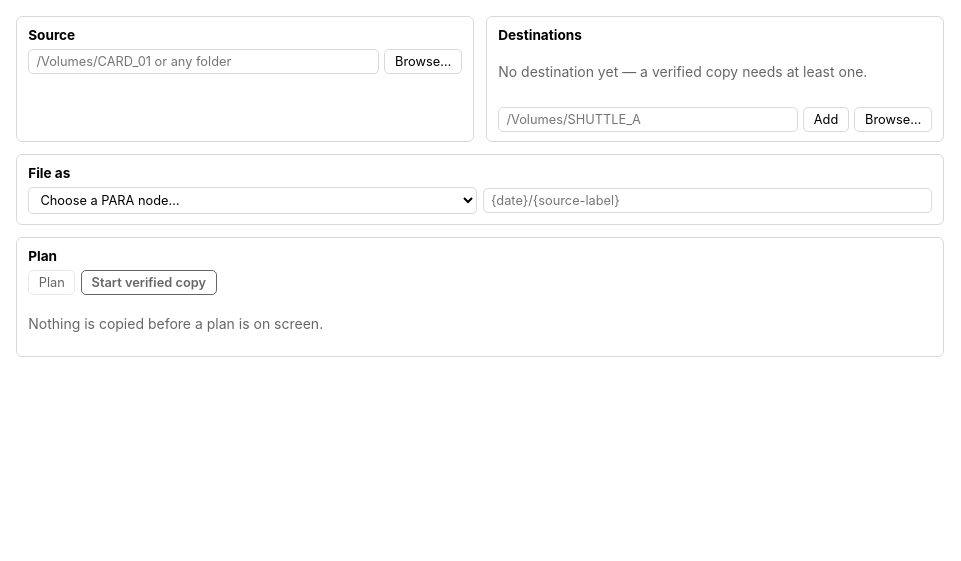
Test: a state read that fails while the run is finishing keeps the run's id on screen
Click the button with aria-label "Browse for source": [423, 62] box [384,49,462,74]
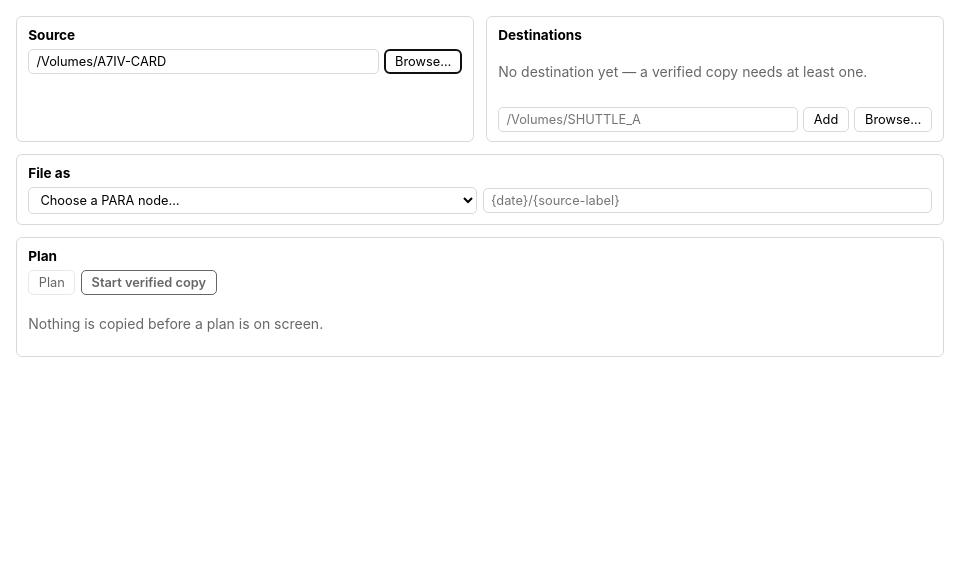
Result: the field named "Source path" holds "/Volumes/A7IV-CARD" at [28,49,379,74]
Click the button with aria-label "Browse for destination": [893, 119] box [854,107,932,132]
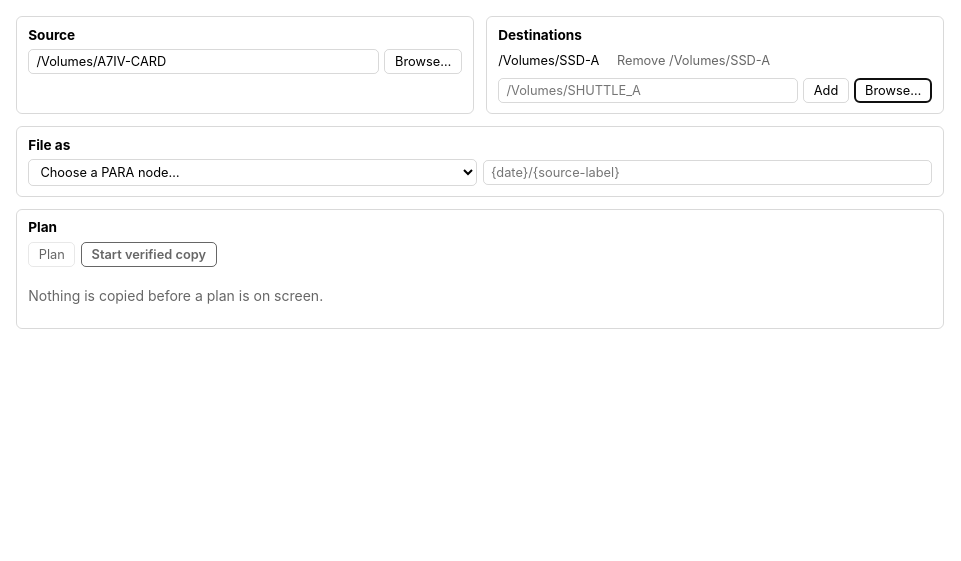
Result: the text "/Volumes/SSD-A" is shown at [498,53,599,68]
Select "project/client-x" in the dropdown named "PARA node": [253, 172] box [28,159,477,186]
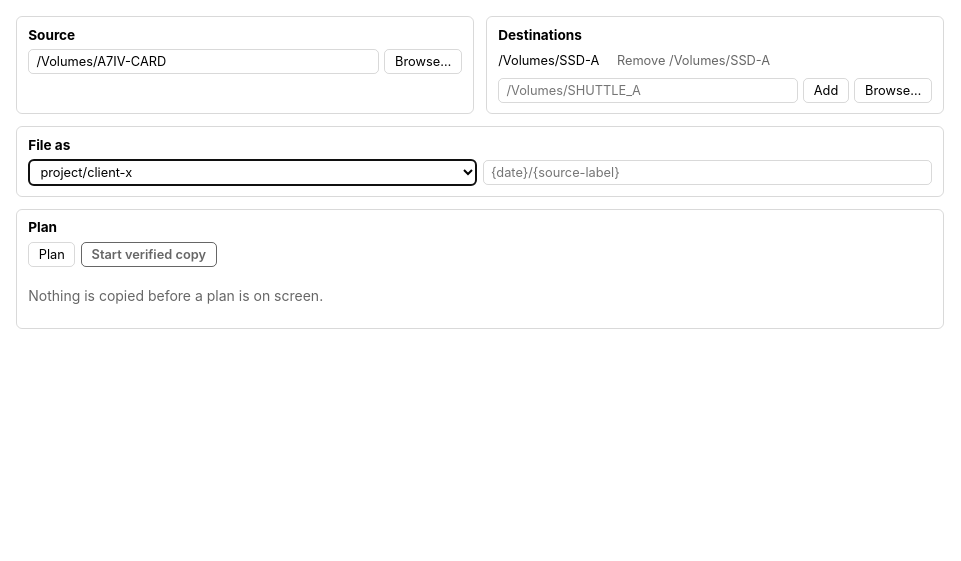
Click the button "Plan": [52, 254] box [28,242,75,266]
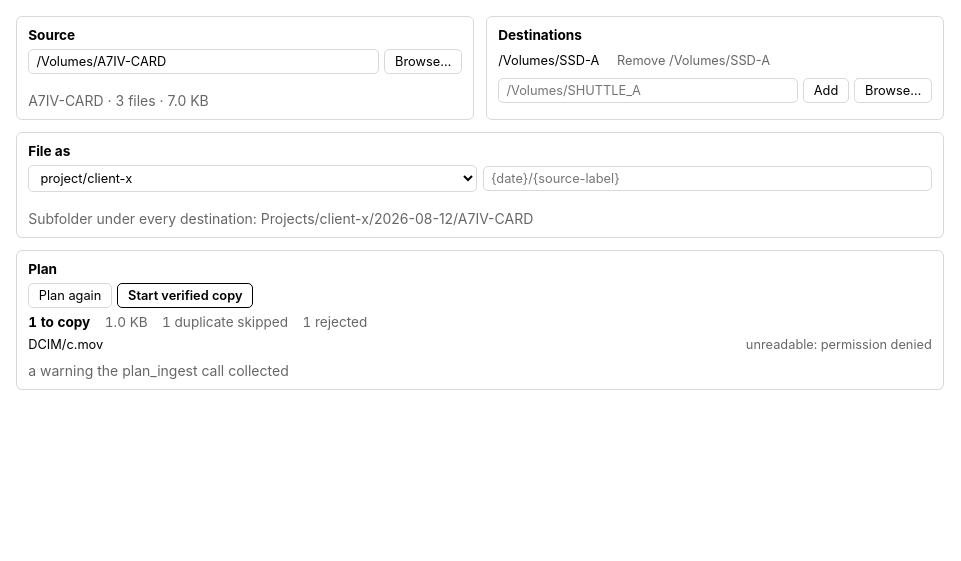
Result: the text "1 to copy" is shown at [28,314,90,330]
Click the button "Start verified copy": [185, 295] box [118,283,253,308]
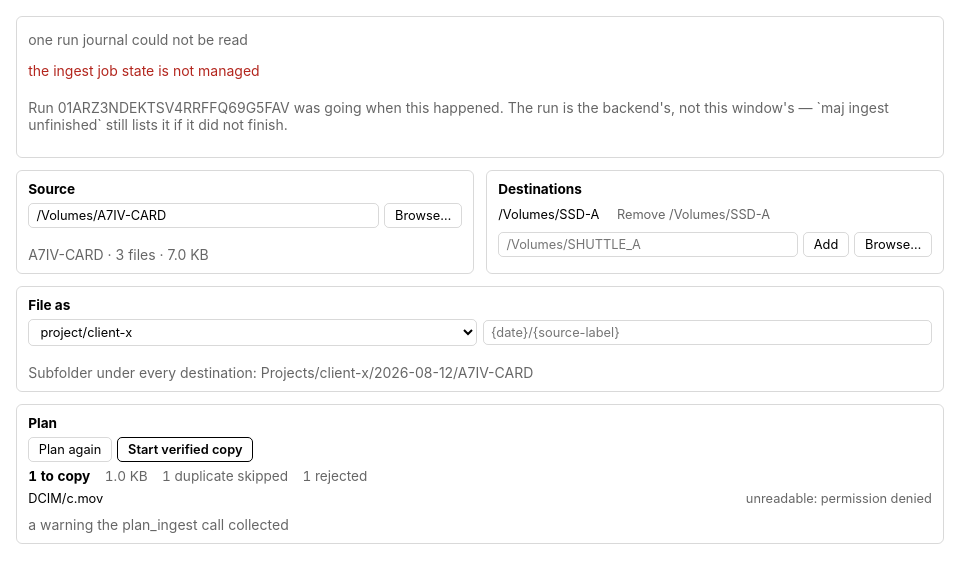
Result: the message reads "the ingest job state is not managed" at [28,62,260,79]
Result: the text "one run journal could not be read" is shown at [28,31,248,48]
Result: the element named "Run state" shows "01ARZ3NDEKTSV4RRFFQ69G5FAV" at [28,99,889,133]
